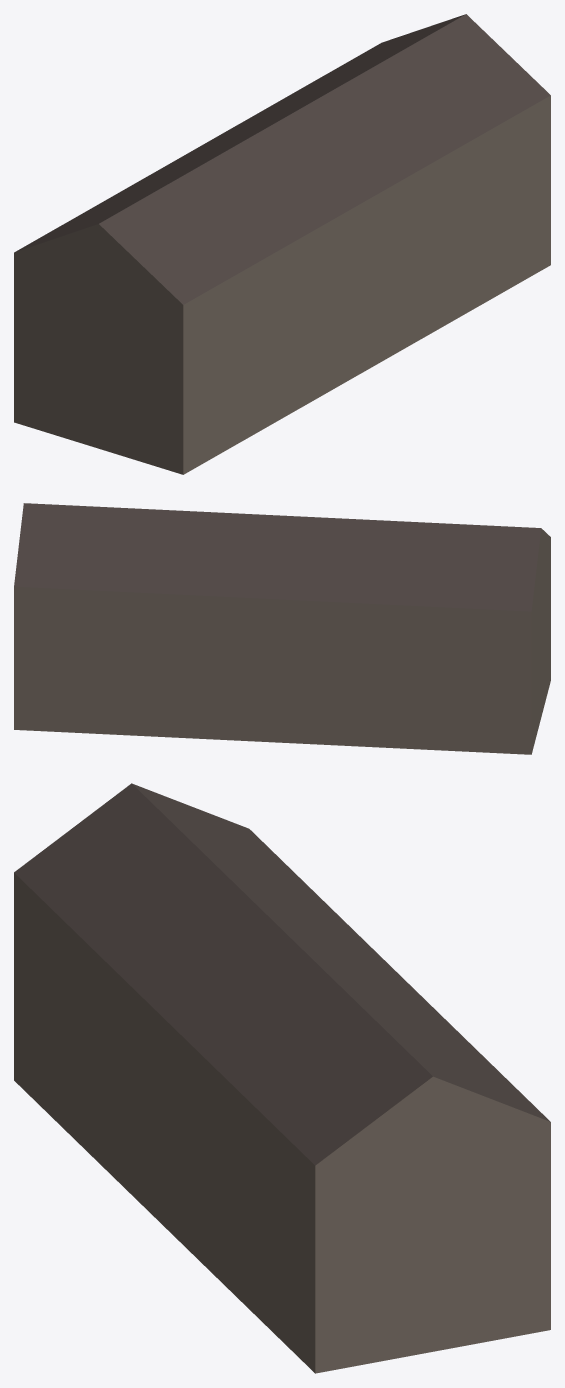
The picture shows the model from 3 angles, top to bottom: view 1: azimuth 30°, elevation 25°; view 2: azimuth 150°, elevation 25°; view 3: azimuth 270°, elevation 25°; orthographic projection. The views are drawn at different scales.
Parts seen in each view (by area): view 1: HP-w859086186; view 2: HP-w859086186; view 3: HP-w859086186.
Part boxes in pixels (x1=…): HP-w859086186: x1=14, y1=14, x2=550, y2=474; HP-w859086186: x1=14, y1=503, x2=550, y2=754; HP-w859086186: x1=14, y1=783, x2=550, y2=1373.
Bounding box in the file's own units: 31.27 × 11.91 × 21.07.
